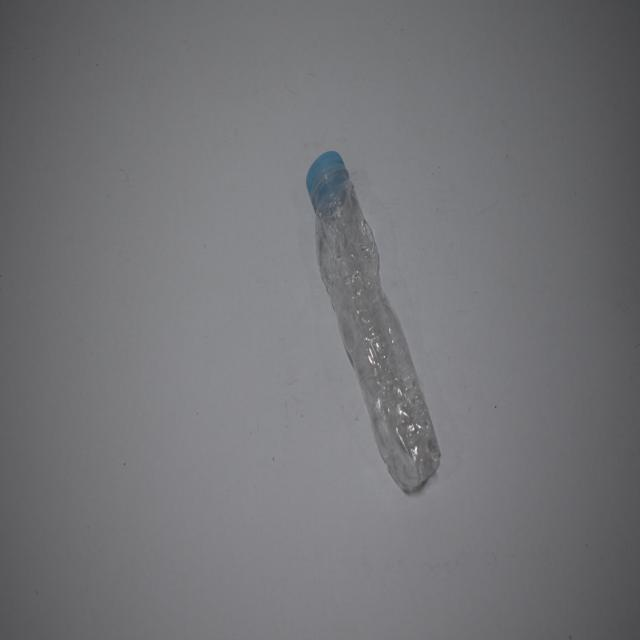bottle: (304, 150, 446, 506)
